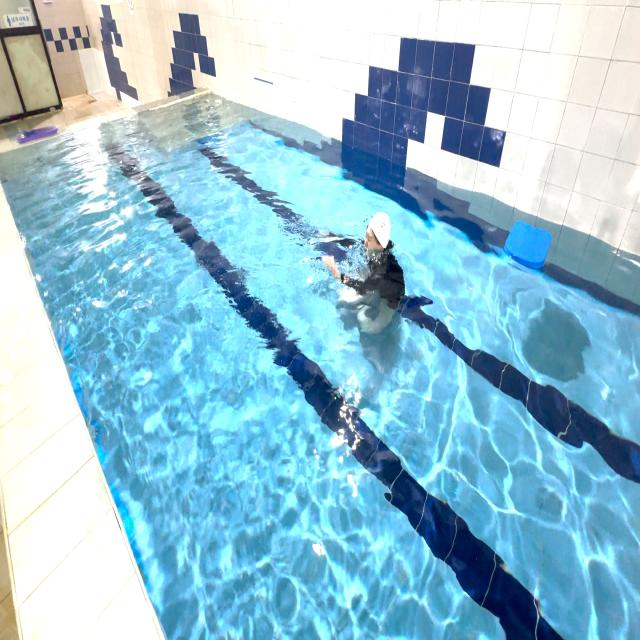Drowning: (322, 211, 406, 333)
